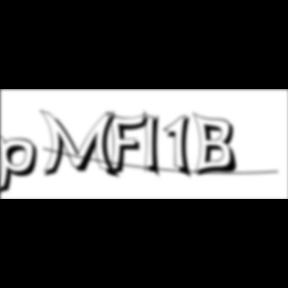1: (164, 114, 198, 182)
B: (193, 111, 243, 179)
F: (107, 110, 155, 178)
M: (39, 108, 123, 181)
l: (144, 108, 168, 182)
p: (0, 132, 44, 198)
